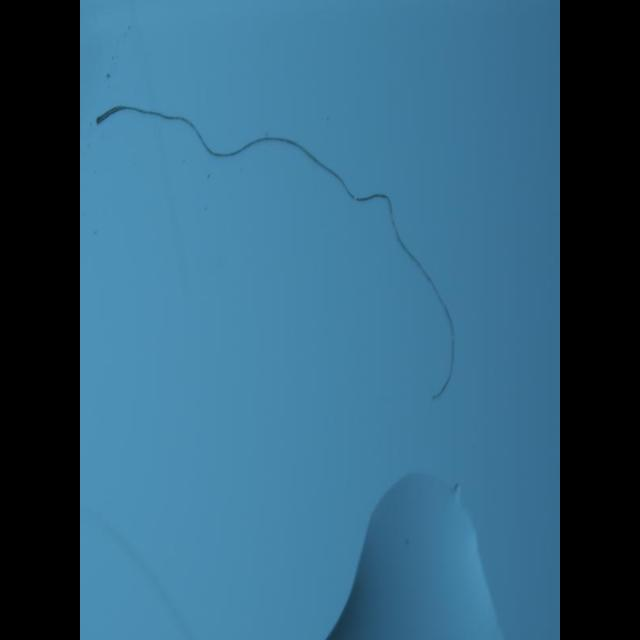Fibre: (96, 102, 457, 402)
